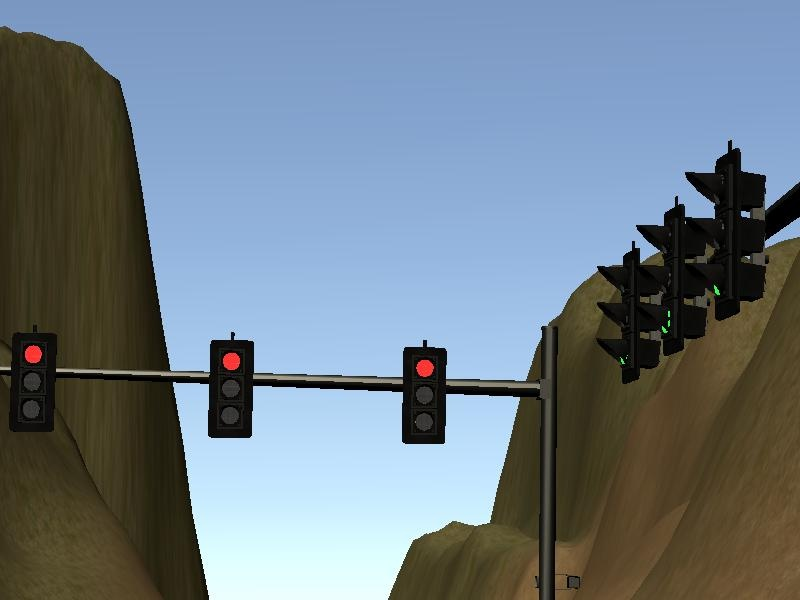red: (399, 339, 450, 451), (207, 336, 256, 447), (8, 328, 55, 438)
